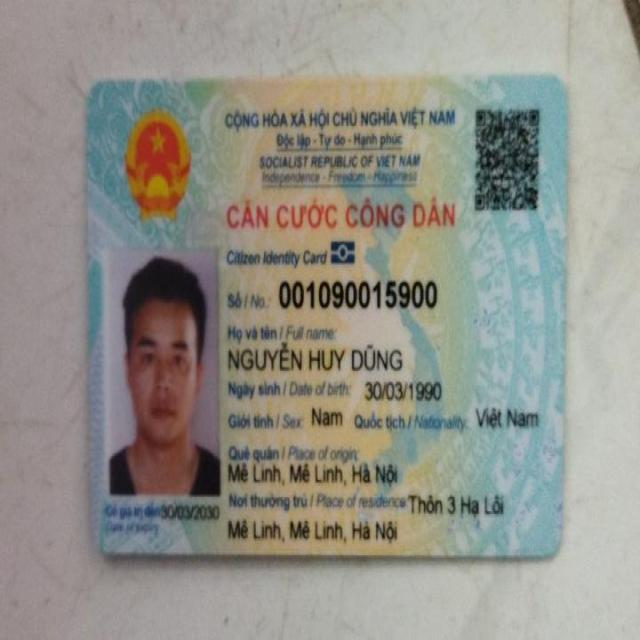bottom_left: (71, 520, 127, 573)
bottom_right: (522, 522, 582, 574)
image_person: (95, 245, 229, 496)
top_left: (68, 66, 120, 126)
top_right: (534, 59, 588, 108)
